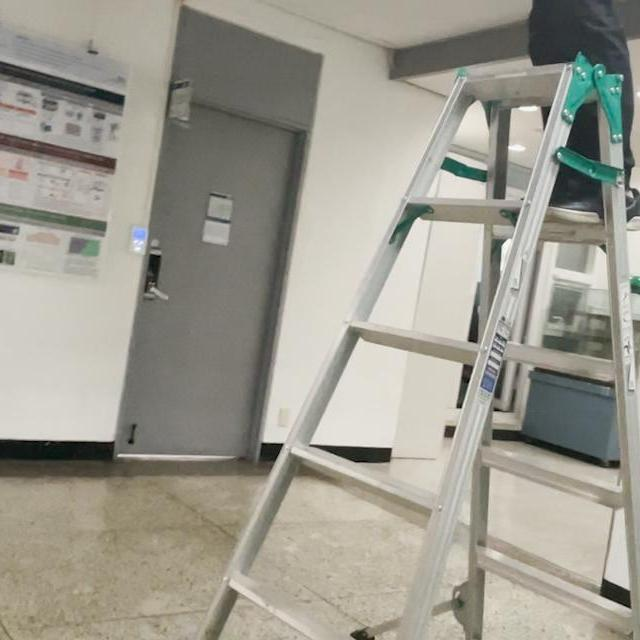Ladder: (14, 60, 640, 640)
Person: (407, 0, 640, 231)
